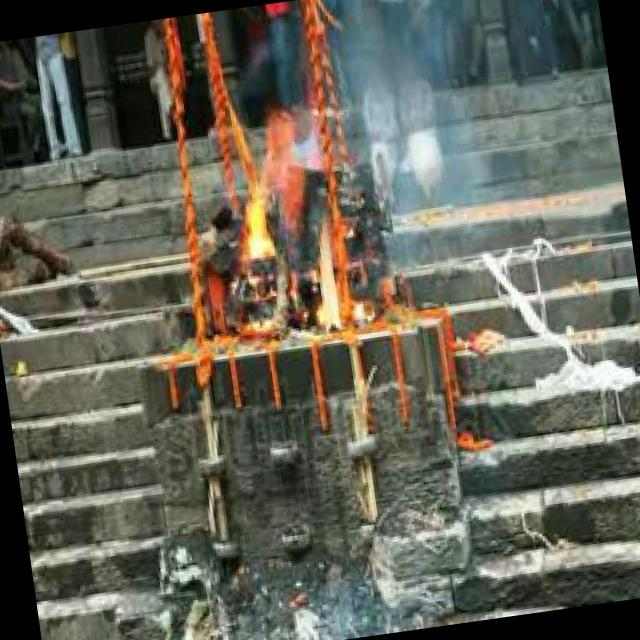Fire: (230, 106, 354, 344)
